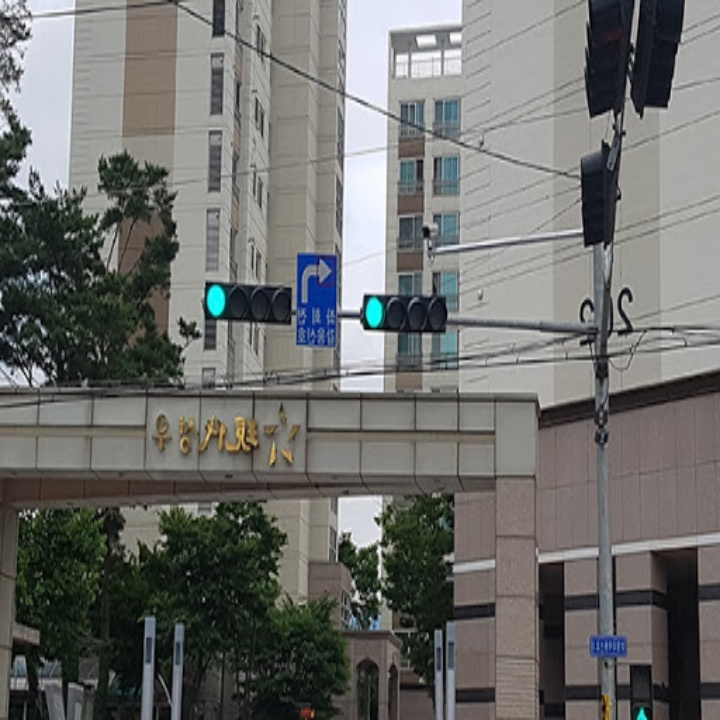right: (299, 258, 339, 305)
